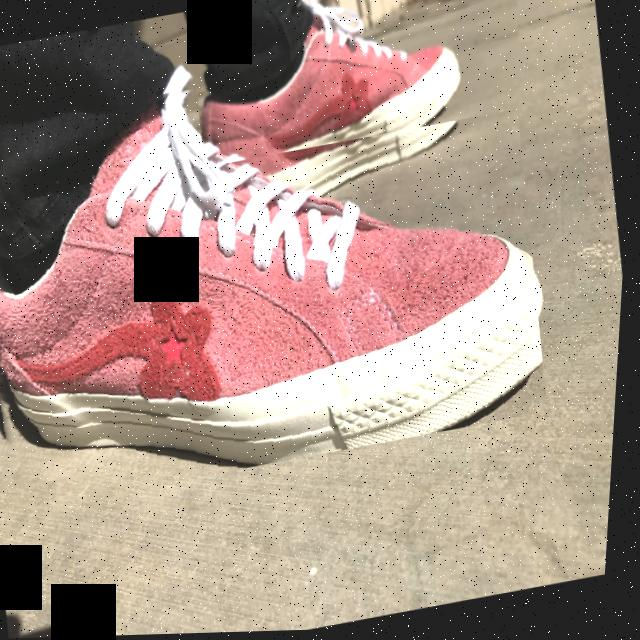shoe: (0, 21, 571, 516), (182, 0, 537, 169)
